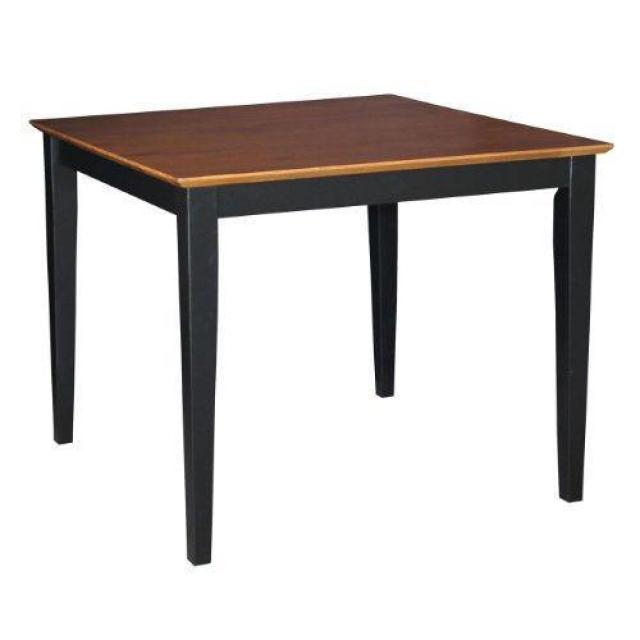table: (31, 93, 613, 568)
